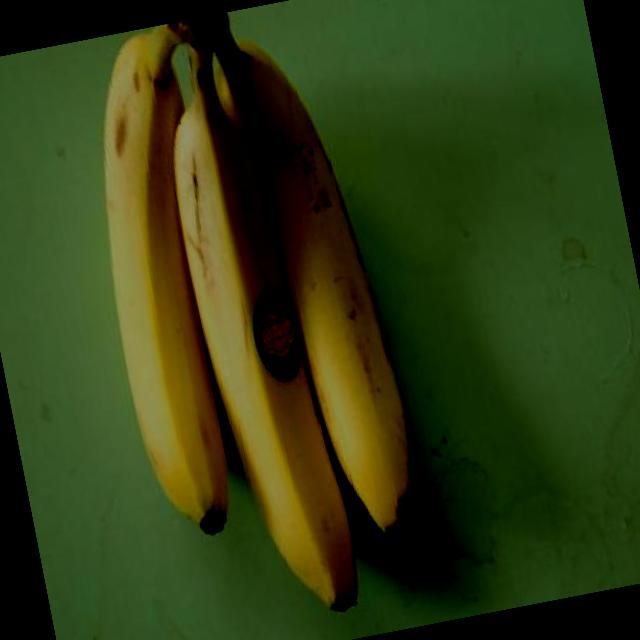Banana: (61, 0, 446, 640)
